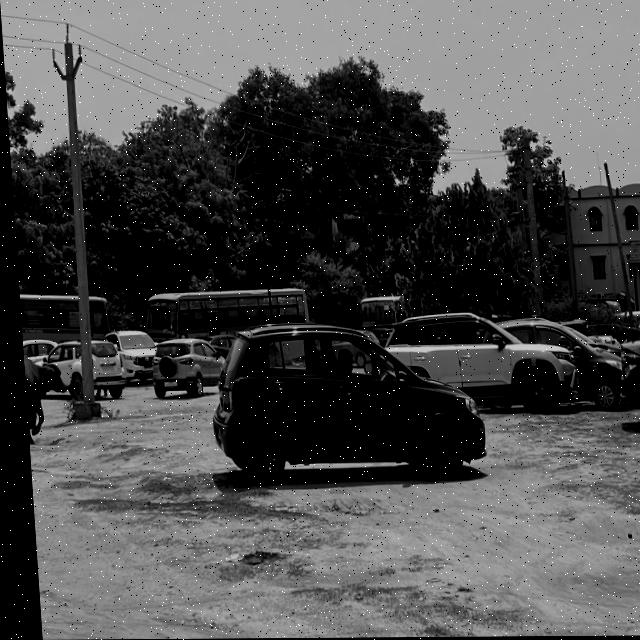bus: (139, 286, 315, 360), (349, 289, 406, 337)
car: (194, 319, 492, 501), (381, 315, 574, 430), (507, 305, 623, 427), (45, 338, 124, 402), (142, 341, 223, 402), (611, 319, 640, 437), (110, 328, 156, 388), (199, 334, 233, 356), (18, 340, 51, 359)
